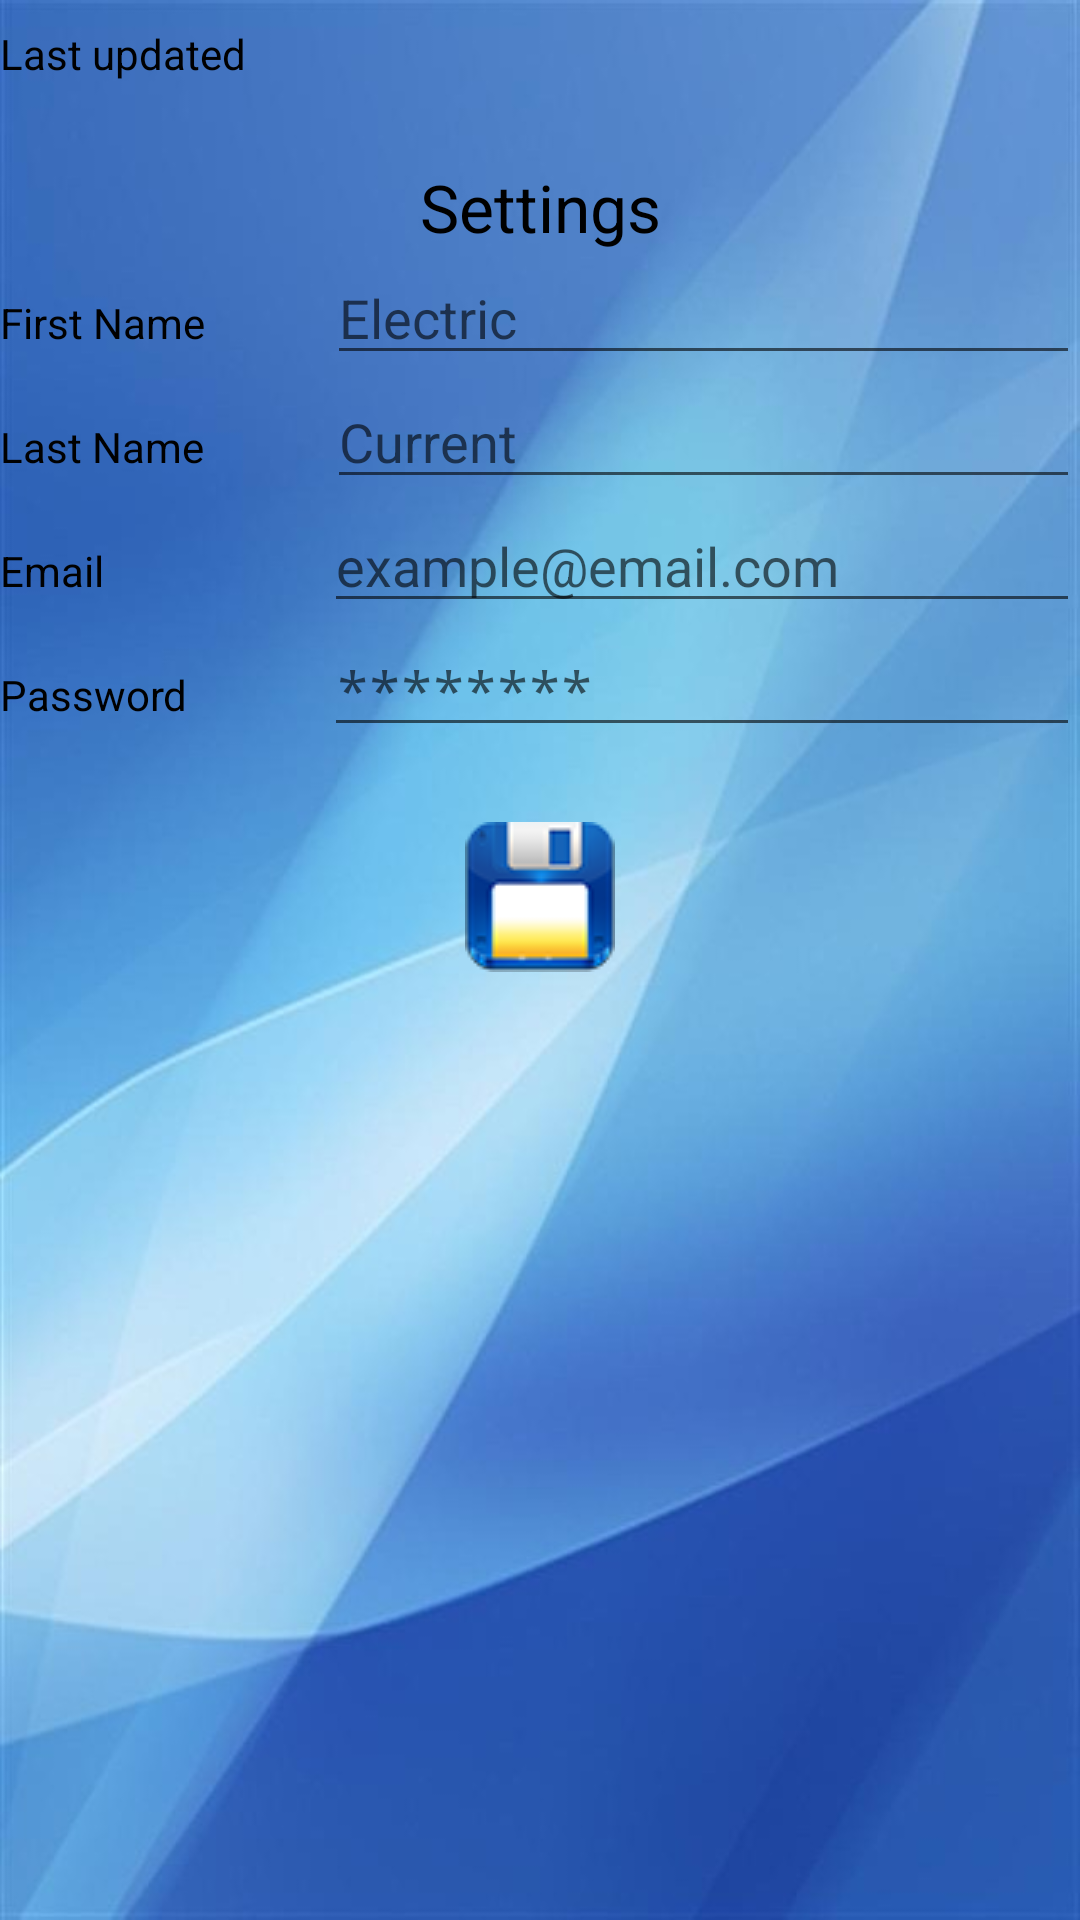

Named icons in this screenshot (1080px x 1920px) and their centers, (x,y):
save: (540,897)
